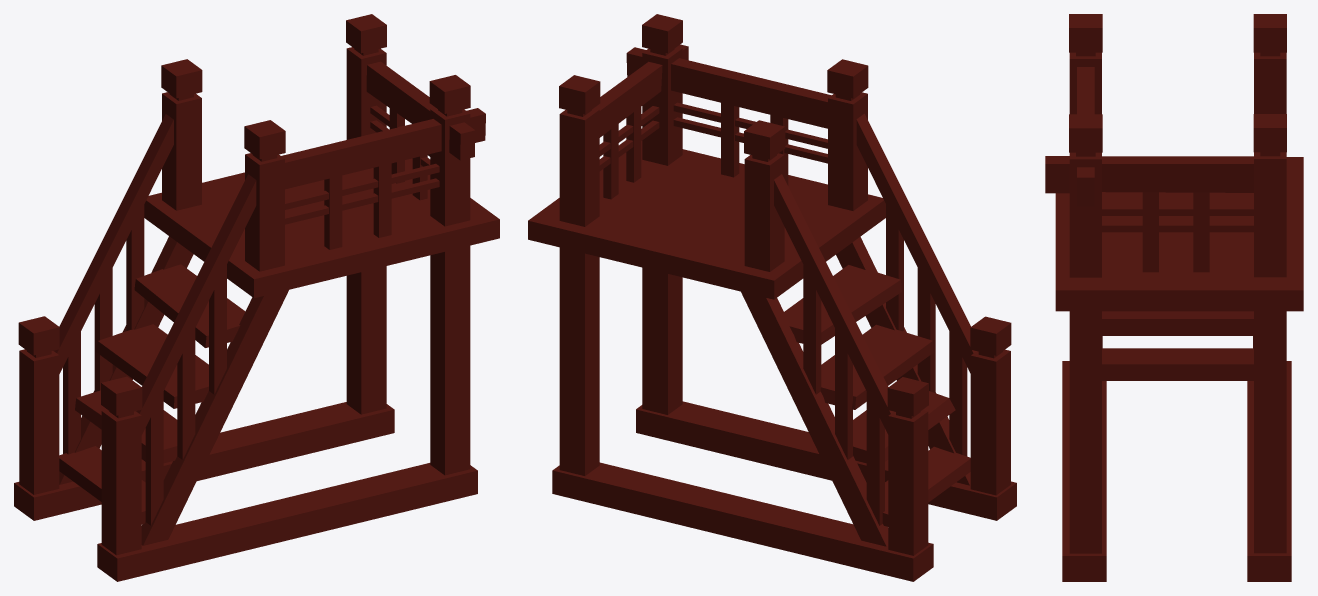
File: steps04.fbx
3 renders of one model, left to right at view 1: azimuth 30°, elevation 25°; view 2: azimuth 150°, elevation 25°; view 3: azimuth 270°, elevation 25°, orthographic. The views are drawn at different scales.
Parts seen in each view (by area): view 1: steps04; view 2: steps04; view 3: steps04.
Part boxes in pixels (bbox=[...]): steps04: bbox=[14, 14, 499, 581]; steps04: bbox=[528, 14, 1016, 581]; steps04: bbox=[1045, 14, 1303, 581].
Bounding box in the file's own units: 467 × 478 × 248.
